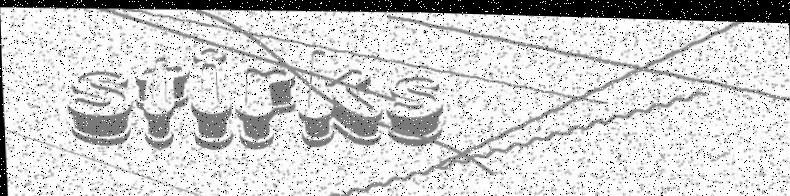i: (185, 43, 235, 151)
k: (297, 43, 381, 149)
r: (235, 61, 300, 154)
s: (62, 64, 137, 146), (384, 69, 446, 144)
t: (132, 52, 191, 149)
